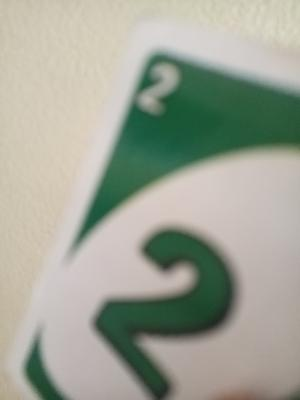green: (128, 81, 279, 400)
